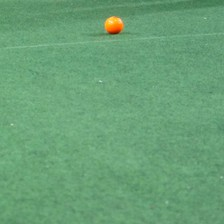ball: (101, 13, 123, 34)
